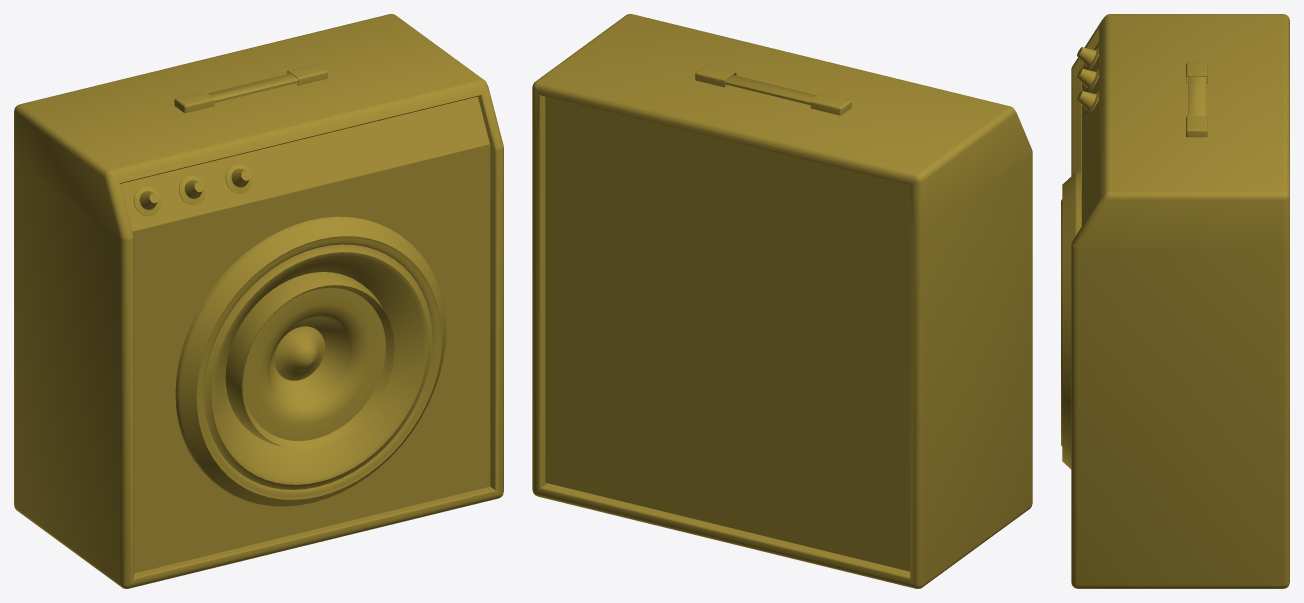
File: amfi.FBX
3 views of the same model, side by side, from view 1: azimuth 30°, elevation 25°; view 2: azimuth 150°, elevation 25°; view 3: azimuth 270°, elevation 25° (orthographic). The views are drawn at different scales.
Parts seen in each view (by area): view 1: kasa, on, whofer_base, whoofer_SCALE, buton001, Object002; view 2: kasa, on, Object002; view 3: kasa, whofer_base, on, buton001, Object002.
Boxes of the visible parts, box(x1,y1,x2,y2) form: kasa: box(14, 14, 503, 588); on: box(120, 64, 490, 573); whofer_base: box(175, 216, 446, 506); whoofer_SCALE: box(225, 272, 394, 448); buton001: box(134, 164, 252, 216); Object002: box(208, 73, 297, 102); kasa: box(532, 14, 1032, 588); on: box(695, 65, 851, 115); Object002: box(725, 75, 817, 105); kasa: box(1071, 14, 1289, 588); whofer_base: box(1061, 171, 1080, 469); on: box(1081, 41, 1207, 227); buton001: box(1077, 47, 1098, 116); Object002: box(1188, 76, 1205, 115).
Bounding box in the file's own units: 644 × 665 × 341.
